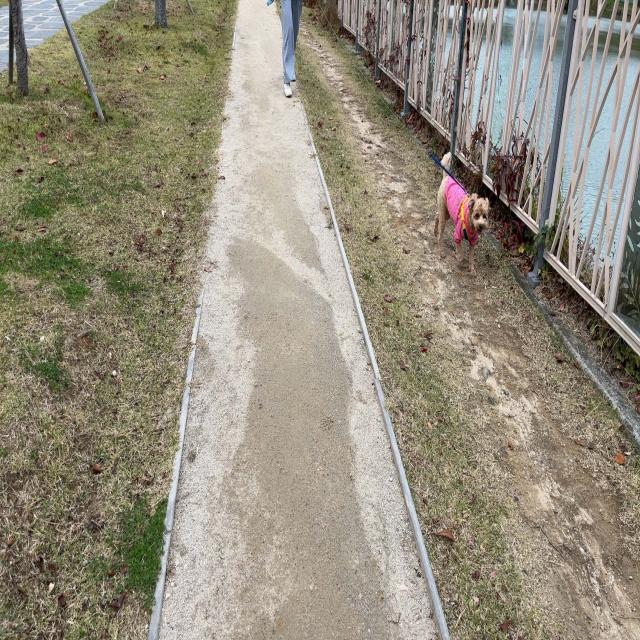Leashed_Dog: (291, 0, 490, 276)
